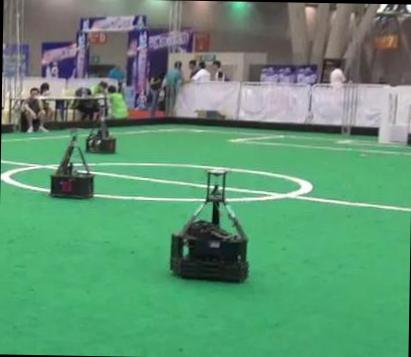blue_shirt: (50, 135, 92, 196)
goal: (378, 85, 390, 142)
robot: (169, 169, 247, 280), (50, 135, 92, 196), (86, 100, 115, 152)
